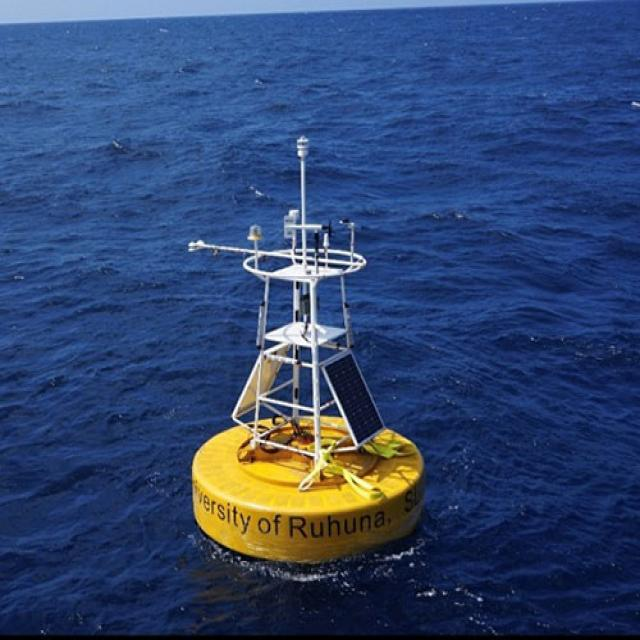buoy: (178, 115, 434, 569)
